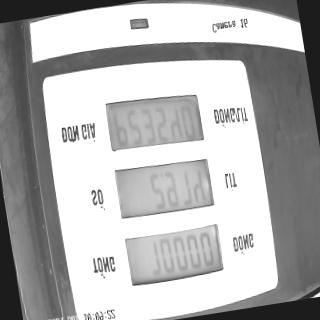screen: (100, 82, 228, 292)
